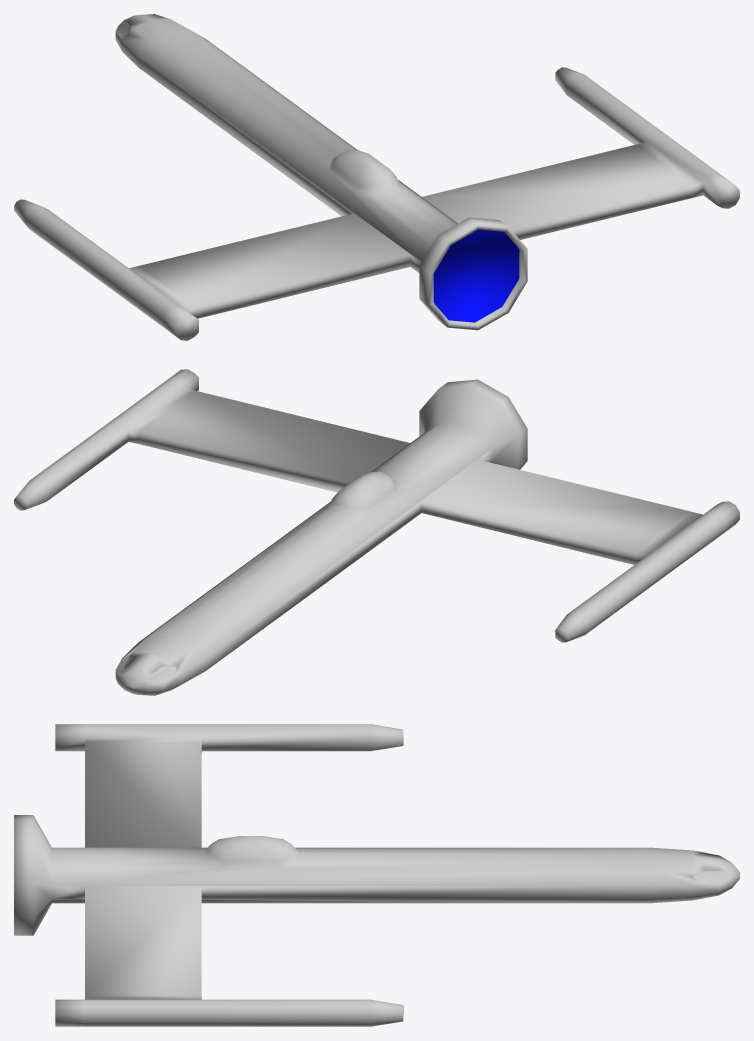
File: MartianSpaceFighterVersion5.obj
3 views of the same model, one above another, from view 1: azimuth 30°, elevation 25°; view 2: azimuth 150°, elevation 25°; view 3: azimuth 270°, elevation 25° (orthographic). The views are drawn at different scales.
Visible parts, largest first — view 1: Cylinder.001_Cylinder.008; view 2: Cylinder.001_Cylinder.008; view 3: Cylinder.001_Cylinder.008.
Part boxes in pixels (<box>): Cylinder.001_Cylinder.008: <box>14,14,739,340</box>; Cylinder.001_Cylinder.008: <box>14,369,739,695</box>; Cylinder.001_Cylinder.008: <box>14,724,739,1026</box>.
Size of the model in its own units: 20.54 by 3.7 by 21.99.
